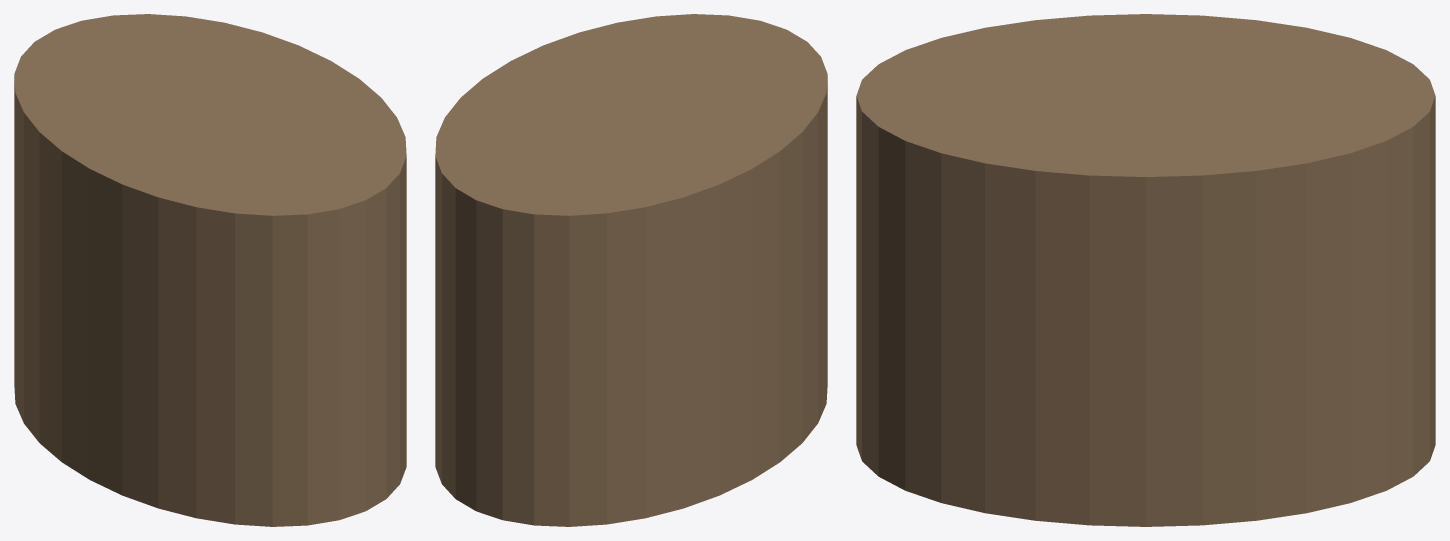
File: 8baa8576-fbfd-43a2-97f5-37defcb95b79.glb
3 views of the same model, side by side, from view 1: azimuth 30°, elevation 25°; view 2: azimuth 150°, elevation 25°; view 3: azimuth 270°, elevation 25° (orthographic). The views are drawn at different scales.
Visible parts, largest first — view 1: Cylinder; view 2: Cylinder; view 3: Cylinder.
Boxes of the visible parts, left/top/right/bottom form: Cylinder: left=14, top=14, right=406, bottom=526; Cylinder: left=435, top=14, right=827, bottom=526; Cylinder: left=856, top=14, right=1435, bottom=526.
Size of the model in its own units: 0.2 by 0.2 by 0.3.
